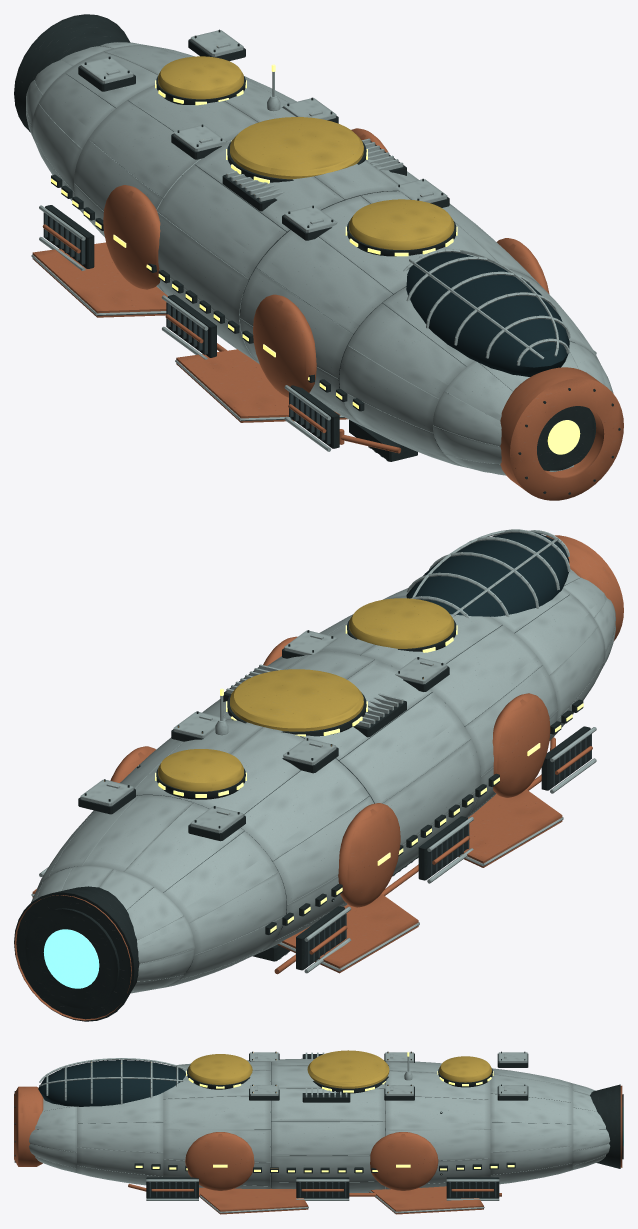
The picture shows the model from 3 angles, top to bottom: view 1: azimuth 30°, elevation 25°; view 2: azimuth 150°, elevation 25°; view 3: azimuth 270°, elevation 25°; orthographic projection. The views are drawn at different scales.
Visible parts, largest first — view 1: HullPlates, Systems, Glazing, CopperHousings, NoseShield, StructuralFins, RecessedEquipment, DriveAssemblies, CanopyFrames, Windows, WindowFrames, PressureHull; view 2: HullPlates, Systems, DriveAssemblies, CopperHousings, StructuralFins, Glazing, RecessedEquipment, CanopyFrames, NoseShield, WindowFrames, Windows, PressureHull; view 3: HullPlates, Systems, CopperHousings, Glazing, StructuralFins, RecessedEquipment, NoseShield, DriveAssemblies, CanopyFrames, WindowFrames, Windows, PressureHull.
Boxes of the visible parts, x1,y1,x2,y2 form: HullPlates: (26,42,613,475); Systems: (78,30,594,470); Glazing: (405,252,569,376); CopperHousings: (103,128,549,397); NoseShield: (500,367,623,500); StructuralFins: (31,242,347,422); RecessedEquipment: (39,205,596,451); DriveAssemblies: (14,14,130,132); CanopyFrames: (403,249,570,365); Windows: (51,80,580,454); WindowFrames: (51,174,364,411); PressureHull: (67,74,596,470); HullPlates: (31,569,615,993); Systems: (78,598,555,974); DriveAssemblies: (14,886,139,1021); CopperHousings: (110,636,550,907); StructuralFins: (31,789,563,973); Glazing: (406,532,569,616); RecessedEquipment: (39,726,596,973); CanopyFrames: (407,529,570,618); NoseShield: (546,535,623,640); WindowFrames: (265,699,583,934); Windows: (155,625,583,932); PressureHull: (60,594,569,971); HullPlates: (29,1058,610,1192); Systems: (128,1050,528,1196); CopperHousings: (185,1132,438,1190); Glazing: (38,1060,185,1106); StructuralFins: (199,1186,484,1214); RecessedEquipment: (146,1177,499,1200); NoseShield: (14,1086,43,1166); DriveAssemblies: (590,1084,623,1168); CanopyFrames: (39,1058,185,1104); WindowFrames: (134,1162,515,1173); Windows: (135,1070,514,1172); PressureHull: (37,1062,604,1187).
Bounding box in the file's own units: 3.6 × 2.42 × 9.6.
1 material, 1 textured.
